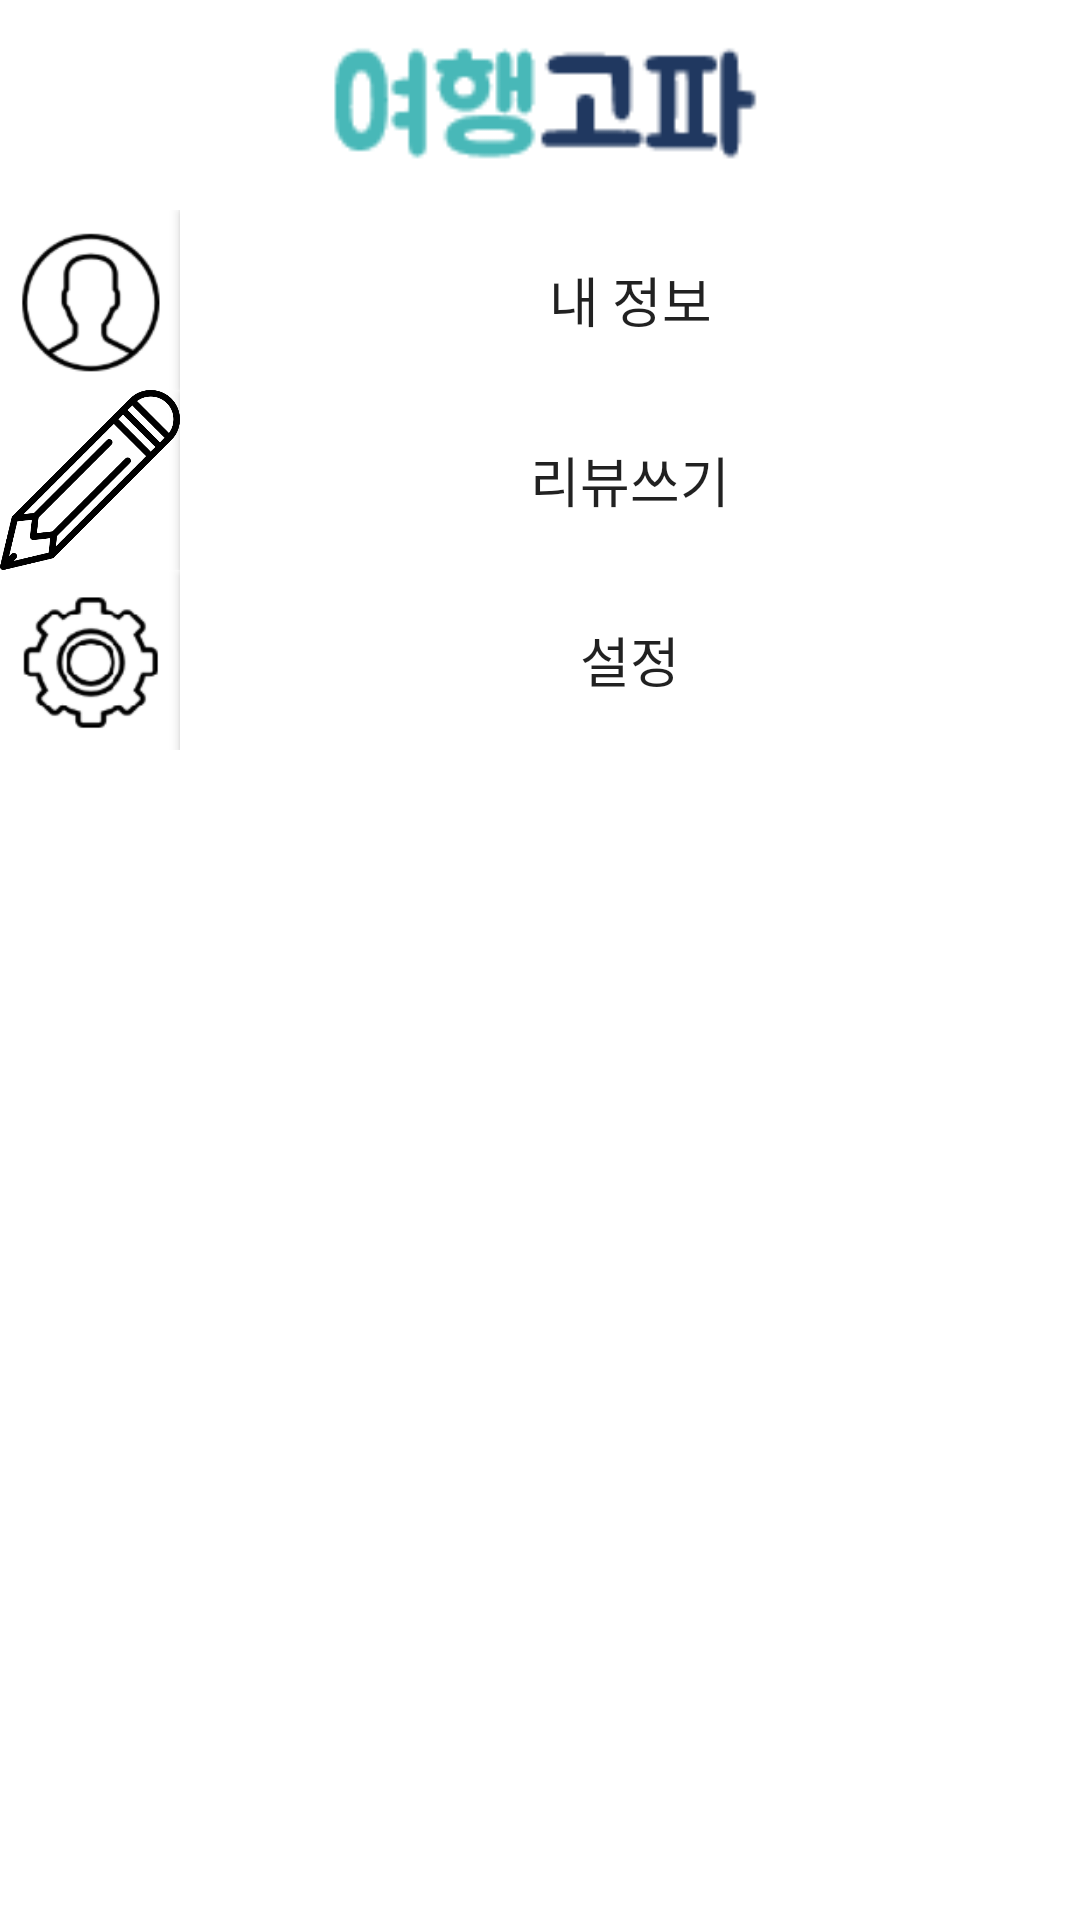

Screen size 1080*1920. Icon name, then its box in pixels as region(x1, y1, x2, y2):
edit: region(0, 390, 180, 570)
settings: region(23, 575, 180, 750)
